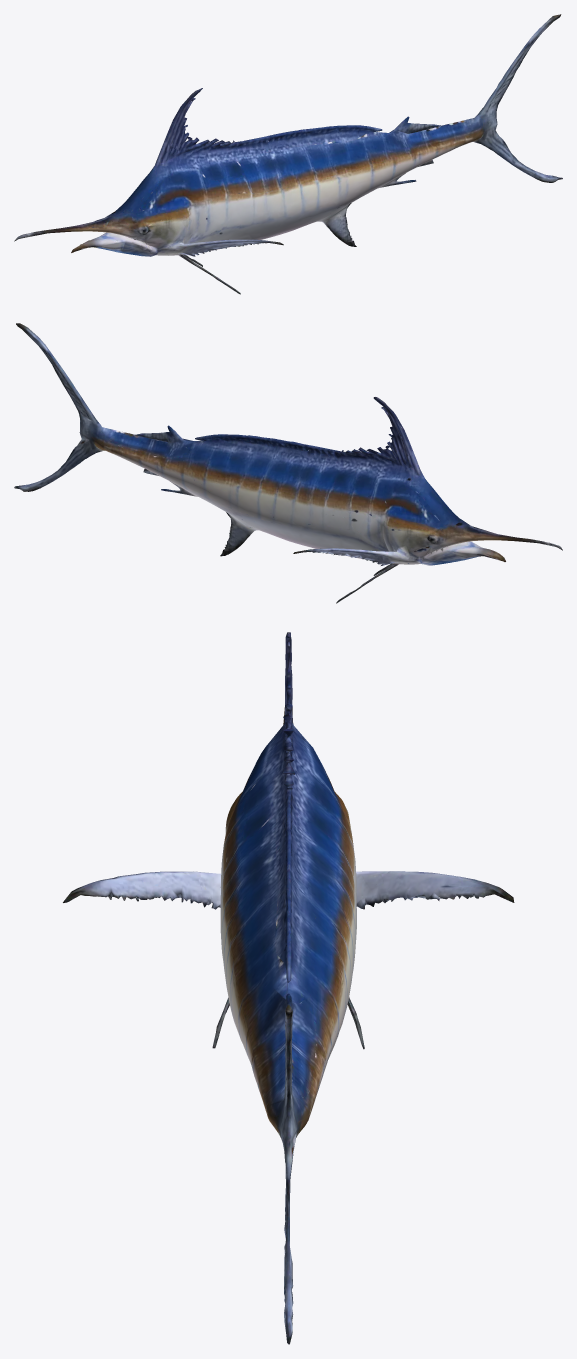
File: marlin.glb
The picture shows the model from 3 angles, top to bottom: view 1: azimuth 30°, elevation 25°; view 2: azimuth 150°, elevation 25°; view 3: azimuth 270°, elevation 25°; orthographic projection. The views are drawn at different scales.
Parts seen in each view (by area): view 1: geometry_0; view 2: geometry_0; view 3: geometry_0.
Part boxes in pixels (<box>): geometry_0: <box>14,14,562,294</box>; geometry_0: <box>14,323,562,603</box>; geometry_0: <box>63,632,514,1344</box>.
Size of the model in its own units: 1 by 0.3447 by 0.3565.
1 material, 1 textured.
